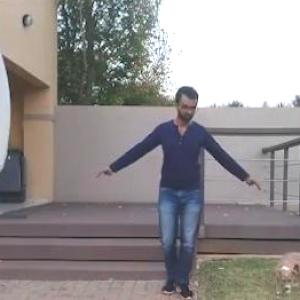land: (48, 81, 244, 299)
